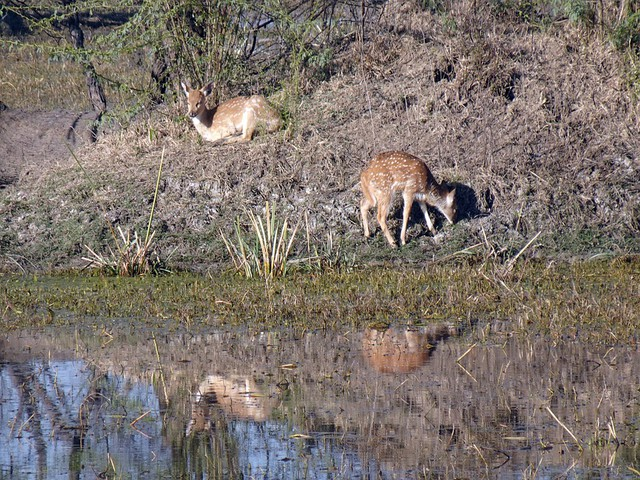deer: (355, 150, 460, 245), (171, 70, 293, 151)
